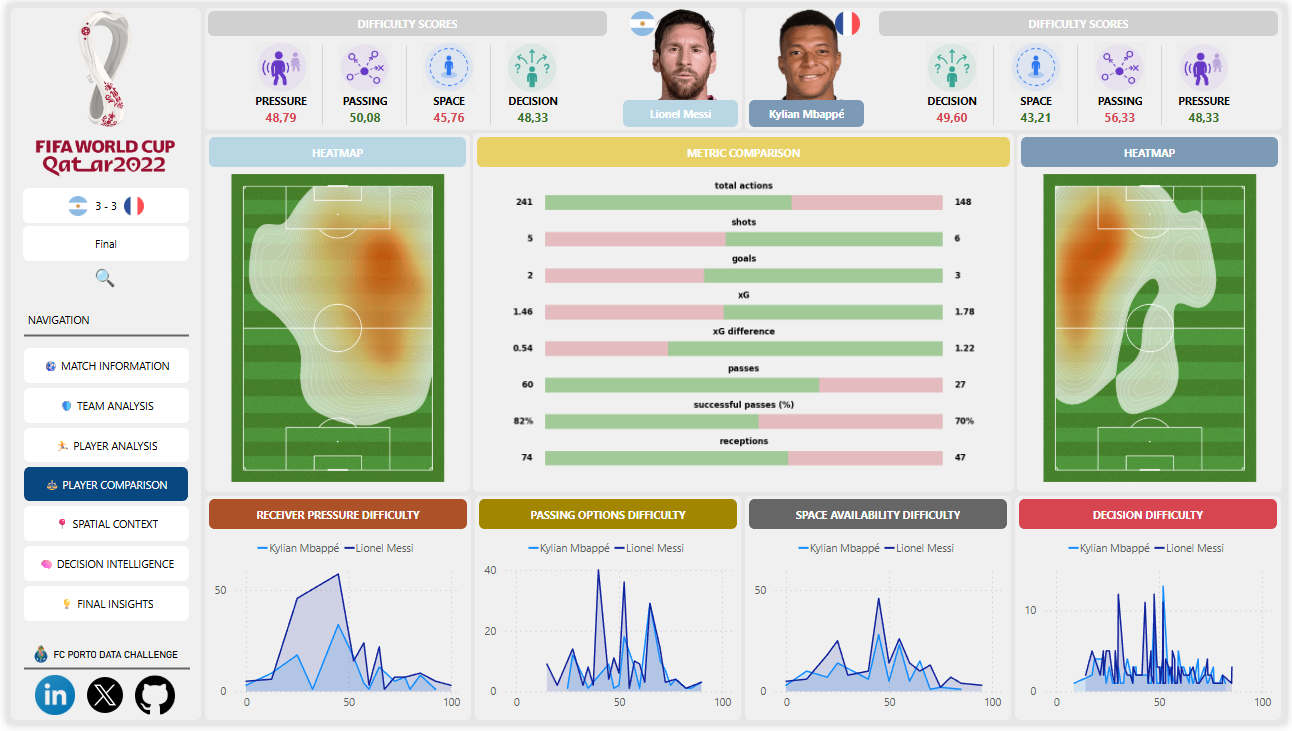

The page's visual inventory and layout, read from the dashboard file:
{"tool":"powerbi","page":{"name":"player comparison","canvas":[1280,720],"ordinal":3},"visuals":[{"type":"shape","box":[4,4,190,712],"z":0},{"type":"image","box":[4,4,189,170],"z":1000},{"type":"actionButton","title":"Botão Ativo Acumulado","box":[16,184,166,35],"z":2000},{"type":"actionButton","title":"Botão Ativo Acumulado","box":[16,222,166,35],"z":3000},{"type":"actionButton","title":"Botão Ativo Acumulado","box":[16.6,344.1,165,35],"z":4000},{"type":"actionButton","title":"Botão Ativo Acumulado","box":[16.7,383.9,165.7,35],"z":5000},{"type":"actionButton","title":"Botão Ativo Acumulado","box":[17,424,165,34],"z":6000},{"type":"actionButton","title":"Botão Ativo Acumulado","box":[17,463,164,34],"z":7000},{"type":"actionButton","title":"Botão Ativo Acumulado","box":[17,502,165,35],"z":8000},{"type":"shape","box":[16.6,302,165.6,58.9],"z":9000},{"type":"actionButton","title":"Botão Ativo Acumulado","box":[10.1,300,83,30],"z":10000},{"type":"actionButton","title":"Botão Ativo Acumulado","box":[17,542,165,35],"z":11000},{"type":"actionButton","title":"Botão Ativo Acumulado","box":[17,582,165,35],"z":12000},{"type":"shape","box":[17,635,166,59],"z":13000},{"type":"image","box":[28.4,671,40,40],"z":14000},{"type":"image","box":[128.4,671,40,40],"z":15000},{"type":"image","box":[78.4,671,40,40],"z":16000},{"type":"image","box":[117,192,20,20],"z":17000},{"type":"image","box":[61,192,20,20],"z":18000},{"type":"shape","box":[198,4,537,122],"z":19000},{"type":"shape","box":[738,4,537,122],"z":20000},{"type":"shape","box":[466,129,541,359],"z":21000},{"type":"shape","box":[198,130,265,358],"z":22000},{"type":"shape","box":[1010,130,265,358],"z":23000},{"type":"pythonVisual","fields":{"Values":["fct_events.location_x","fct_events.location_y","fct_events.player_id","Tabela.player_name_comparison_A"]},"box":[198,153,265,342],"z":24000},{"type":"pythonVisual","fields":{"Values":["fct_events.location_x","fct_events.location_y","fct_events.player_id","Tabela.selected_player_id_B"]},"box":[1010,153,265,342],"z":25000},{"type":"shape","box":[198,492,266,224],"z":26000},{"type":"shape","box":[468,492,266,224],"z":27000},{"type":"shape","box":[738,492,266,224],"z":28000},{"type":"shape","box":[1008,492,266,224],"z":29000},{"type":"areaChart","fields":{"Category":["fct_events.receiver_pressure_score"],"Y":["CountNonNull(fct_events.id)"],"Series":["dim_players.player_name_upmecano_muani"]},"box":[202,525,257,191],"z":30000},{"type":"actionButton","title":"Botão Ativo Acumulado","box":[202,133,257,30],"z":31000},{"type":"actionButton","title":"Botão Ativo Acumulado","box":[1014,133,257,30],"z":32000},{"type":"actionButton","title":"Botão Ativo Acumulado","box":[470,133,533,30],"z":33000},{"type":"actionButton","title":"Botão Ativo Acumulado","box":[202,495,258,30],"z":34000},{"type":"actionButton","title":"Botão Ativo Acumulado","box":[472,495,258,30],"z":35000},{"type":"actionButton","title":"Botão Ativo Acumulado","box":[742,495,258,30],"z":36000},{"type":"actionButton","title":"Botão Ativo Acumulado","box":[1012,495,258,30],"z":37000},{"type":"areaChart","fields":{"Y":["CountNonNull(fct_events.id)"],"Series":["dim_players.player_name_upmecano_muani"],"Category":["fct_events.passing_options_difficulty_score"]},"box":[472,525,258,191],"z":38000},{"type":"areaChart","fields":{"Category":["fct_events.space_difficulty_score"],"Y":["CountNonNull(fct_events.id)"],"Series":["dim_players.player_name_upmecano_muani"]},"box":[742,525,258,191],"z":39000},{"type":"areaChart","fields":{"Category":["fct_events.decision_difficulty_score"],"Y":["CountNonNull(fct_events.id)"],"Series":["dim_players.player_name_upmecano_muani"]},"box":[1012,525,258,191],"z":40000},{"type":"image","box":[616,4,119,92],"z":41000},{"type":"image","box":[742,4,119,92],"z":42000},{"type":"image","box":[623,7,25,25],"z":43000},{"type":"image","box":[828,7,25,25],"z":44000},{"type":"pythonVisual","fields":{"Values":["fct_player_stats_long.player_id","fct_player_stats_long.metric","fct_player_stats_long.value","Tabela.players_comparison_selected_player_id_A","Tabela.players_comparison_selected_player_id_B"]},"box":[470,163,533,325],"z":45000},{"type":"image","box":[88,264,20,20],"z":46000},{"type":"actionButton","title":"Botão Ativo Acumulado","box":[616,96,115,27],"z":47000},{"type":"actionButton","title":"Botão Ativo Acumulado","box":[742,96,115,27],"z":48000},{"type":"shape","box":[300,41,31,80],"z":49000},{"type":"shape","box":[384,41,31,80],"z":50000},{"type":"shape","box":[468,41,31,80],"z":51000},{"type":"image","box":[239,38,70,50],"z":52000},{"type":"image","box":[323,38,70,50],"z":53000},{"type":"image","box":[407,38,70,50],"z":54000},{"type":"image","box":[490,38,70,50],"z":55000},{"type":"actionButton","title":"Botão Ativo Acumulado","box":[232,81,84,30],"z":56000},{"type":"card","title":"asd","fields":{"Values":["Max(dim_players_comparison_player_A.receiver_pressure_score)"]},"box":[232,101,84,30],"z":57000},{"type":"actionButton","title":"Botão Ativo Acumulado","box":[316,81,84,30],"z":58000},{"type":"card","title":"asd","fields":{"Values":["Max(dim_players_comparison_player_A.passing_options_difficulty_score)"]},"box":[316,101,84,30],"z":59000},{"type":"actionButton","title":"Botão Ativo Acumulado","box":[400,81,84,30],"z":60000},{"type":"card","title":"asd","fields":{"Values":["Max(dim_players_comparison_player_A.space_difficulty_score)"]},"box":[400,101,84,30],"z":61000},{"type":"card","title":"asd","fields":{"Values":["Max(dim_players_comparison_player_A.decision_difficulty_score)"]},"box":[484,101,84,30],"z":62000},{"type":"actionButton","title":"Botão Ativo Acumulado","box":[484,81,84,30],"z":63000},{"type":"shape","box":[971,41,31,80],"z":64000},{"type":"shape","box":[1055,41,31,80],"z":65000},{"type":"shape","box":[1139,41,31,80],"z":66000},{"type":"image","box":[910,38,70,50],"z":67000},{"type":"image","box":[994,38,70,50],"z":68000},{"type":"image","box":[1078,38,70,50],"z":69000},{"type":"image","box":[1161,38,70,50],"z":70000},{"type":"actionButton","title":"Botão Ativo Acumulado","box":[903,81,84,30],"z":71000},{"type":"card","title":"asd","fields":{"Values":["Max(dim_players_comparison_player_B.decision_difficulty_score)"]},"box":[903,101,84,30],"z":72000},{"type":"actionButton","title":"Botão Ativo Acumulado","box":[987,81,84,30],"z":73000},{"type":"card","title":"asd","fields":{"Values":["Max(dim_players_comparison_player_B.space_difficulty_score)"]},"box":[987,101,84,30],"z":74000},{"type":"actionButton","title":"Botão Ativo Acumulado","box":[1071,81,84,30],"z":75000},{"type":"card","title":"asd","fields":{"Values":["Max(dim_players_comparison_player_B.passing_options_difficulty_score)"]},"box":[1071,101,84,30],"z":76000},{"type":"card","title":"asd","fields":{"Values":["Max(dim_players_comparison_player_B.receiver_pressure_score)"]},"box":[1155,101,84,30],"z":77000},{"type":"actionButton","title":"Botão Ativo Acumulado","box":[1155,81,84,30],"z":78000},{"type":"actionButton","title":"Botão Ativo Acumulado","box":[201,7,399,25],"z":79000},{"type":"actionButton","title":"Botão Ativo Acumulado","box":[872,7,399,25],"z":80000},{"type":"actionButton","title":"Botão Ativo Acumulado","box":[37,635,143,30],"z":82000},{"type":"image","box":[25,641,18,18],"z":83000},{"type":"group","id":"g1","title":"filters","box":[0,0,1280,720],"z":83500}]}

Visuals, with their boxes in screenshot pixels (x1, y1, x2, y2), scaled from the page's 1280x720 canvas onto the 1292x731 screenshot:
shape: 4/4/196/727
image: 4/4/195/177
"Botão Ativo Acumulado" actionButton: 16/187/184/222
"Botão Ativo Acumulado" actionButton: 16/225/184/261
"Botão Ativo Acumulado" actionButton: 17/349/183/385
"Botão Ativo Acumulado" actionButton: 17/390/184/425
"Botão Ativo Acumulado" actionButton: 17/430/184/465
"Botão Ativo Acumulado" actionButton: 17/470/183/505
"Botão Ativo Acumulado" actionButton: 17/510/184/545
shape: 17/307/184/366
"Botão Ativo Acumulado" actionButton: 10/305/94/335
"Botão Ativo Acumulado" actionButton: 17/550/184/586
"Botão Ativo Acumulado" actionButton: 17/591/184/626
shape: 17/645/185/705
image: 29/681/69/722
image: 130/681/170/722
image: 79/681/120/722
image: 118/195/138/215
image: 62/195/82/215
shape: 200/4/742/128
shape: 745/4/1287/128
shape: 470/131/1016/495
shape: 200/132/467/495
shape: 1019/132/1287/495
pythonVisual - fct_events.location_x x fct_events.location_y: 200/155/467/503
pythonVisual - fct_events.location_x x fct_events.location_y: 1019/155/1287/503
shape: 200/500/468/727
shape: 472/500/741/727
shape: 745/500/1013/727
shape: 1017/500/1286/727
areaChart - fct_events.receiver_pressure_score x CountNonNull(fct_events.id): 204/533/463/727
"Botão Ativo Acumulado" actionButton: 204/135/463/165
"Botão Ativo Acumulado" actionButton: 1024/135/1283/165
"Botão Ativo Acumulado" actionButton: 474/135/1012/165
"Botão Ativo Acumulado" actionButton: 204/503/464/533
"Botão Ativo Acumulado" actionButton: 476/503/737/533
"Botão Ativo Acumulado" actionButton: 749/503/1009/533
"Botão Ativo Acumulado" actionButton: 1021/503/1282/533
areaChart - CountNonNull(fct_events.id) x dim_players.player_name_upmecano_muani: 476/533/737/727
areaChart - fct_events.space_difficulty_score x CountNonNull(fct_events.id): 749/533/1009/727
areaChart - fct_events.decision_difficulty_score x CountNonNull(fct_events.id): 1021/533/1282/727
image: 622/4/742/97
image: 749/4/869/97
image: 629/7/654/32
image: 836/7/861/32
pythonVisual - fct_player_stats_long.player_id x fct_player_stats_long.metric: 474/165/1012/495
image: 89/268/109/288
"Botão Ativo Acumulado" actionButton: 622/97/738/125
"Botão Ativo Acumulado" actionButton: 749/97/865/125
shape: 303/42/334/123
shape: 388/42/419/123
shape: 472/42/504/123
image: 241/39/312/89
image: 326/39/397/89
image: 411/39/481/89
image: 495/39/565/89
"Botão Ativo Acumulado" actionButton: 234/82/319/113
"asd" card: 234/103/319/133
"Botão Ativo Acumulado" actionButton: 319/82/404/113
"asd" card: 319/103/404/133
"Botão Ativo Acumulado" actionButton: 404/82/489/113
"asd" card: 404/103/489/133
"asd" card: 489/103/573/133
"Botão Ativo Acumulado" actionButton: 489/82/573/113
shape: 980/42/1011/123
shape: 1065/42/1096/123
shape: 1150/42/1181/123
image: 919/39/989/89
image: 1003/39/1074/89
image: 1088/39/1159/89
image: 1172/39/1243/89
"Botão Ativo Acumulado" actionButton: 911/82/996/113
"asd" card: 911/103/996/133
"Botão Ativo Acumulado" actionButton: 996/82/1081/113
"asd" card: 996/103/1081/133
"Botão Ativo Acumulado" actionButton: 1081/82/1166/113
"asd" card: 1081/103/1166/133
"asd" card: 1166/103/1251/133
"Botão Ativo Acumulado" actionButton: 1166/82/1251/113
"Botão Ativo Acumulado" actionButton: 203/7/606/32
"Botão Ativo Acumulado" actionButton: 880/7/1283/32
"Botão Ativo Acumulado" actionButton: 37/645/182/675
image: 25/651/43/669
"filters" group: 0/0/1291/730
